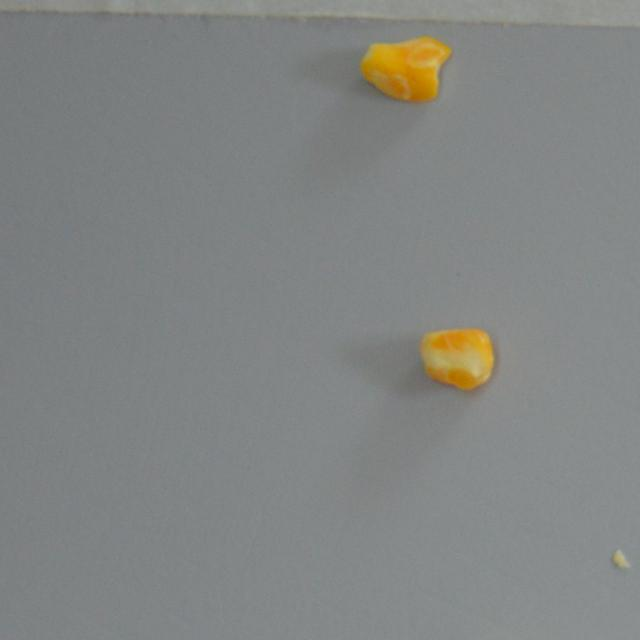pelicula: (355, 34, 452, 104), (420, 328, 495, 390)
